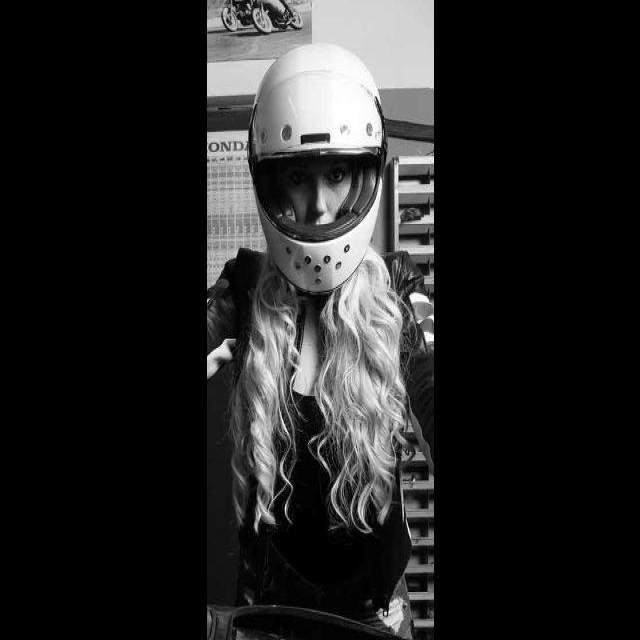5_casco: (247, 42, 387, 291)
